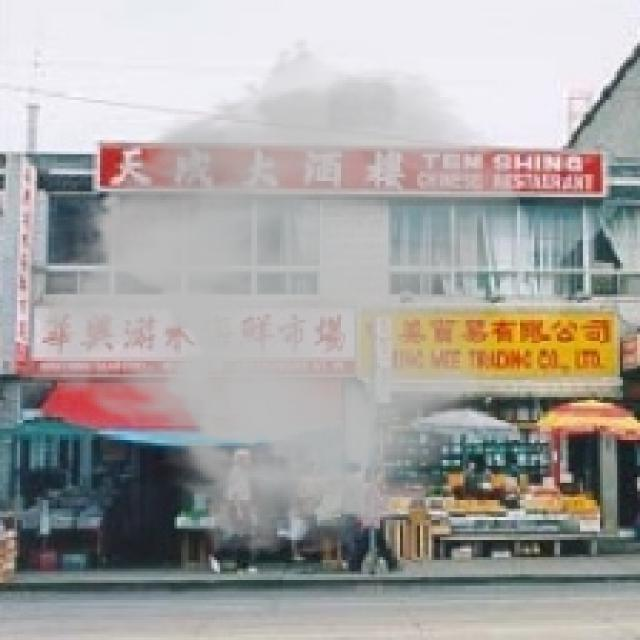Smoke: (2, 37, 528, 560)
